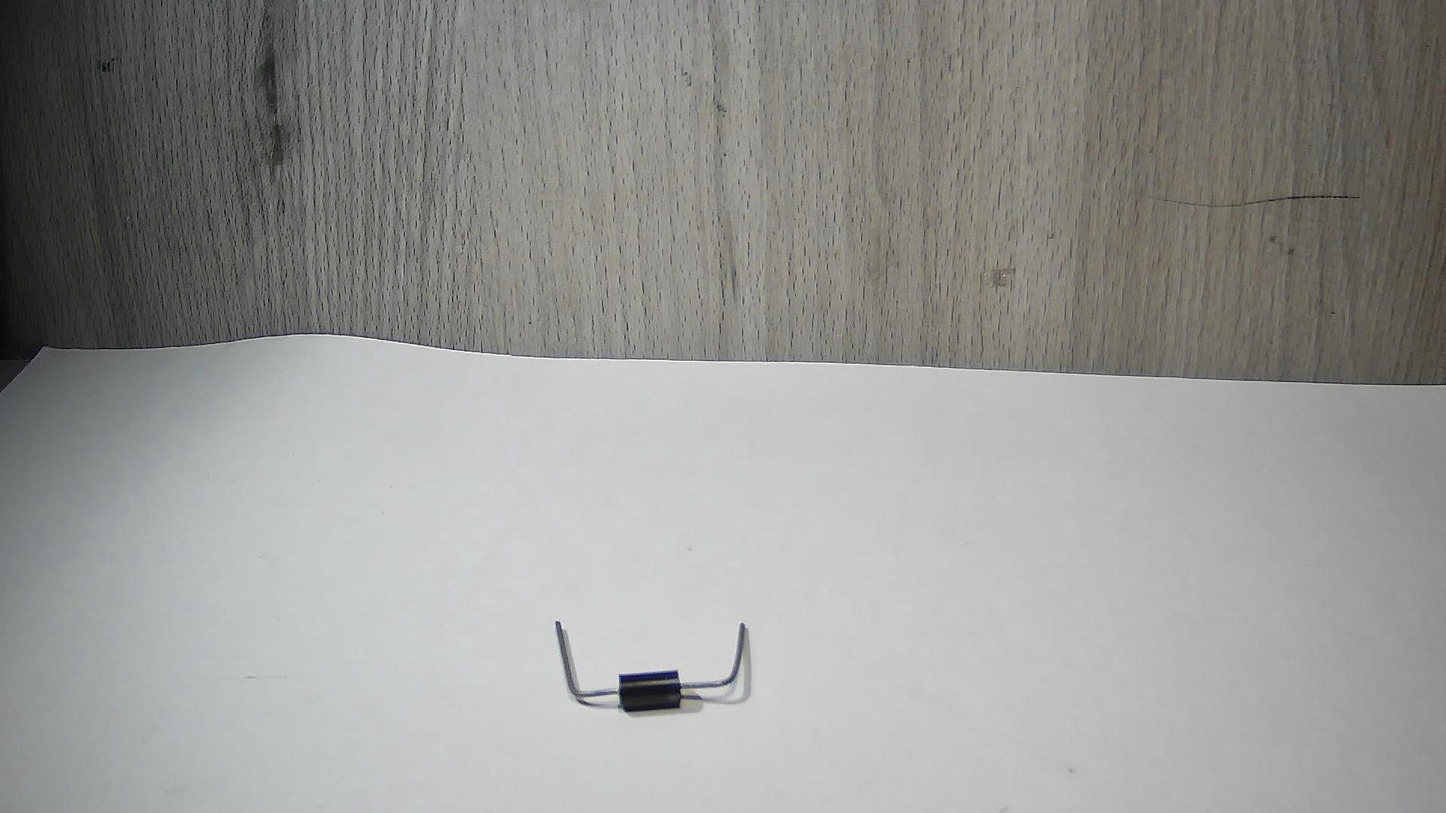Diodo: (530, 597, 813, 748)
